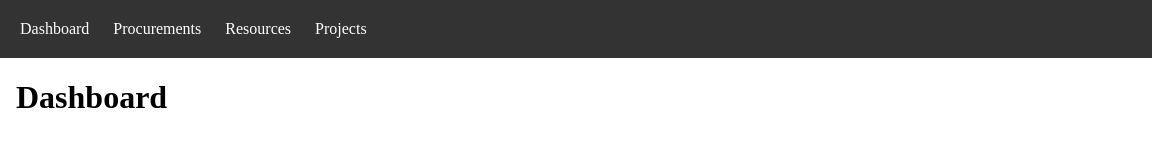
Test: User click on Procurements renders dashboard page
Click the link "Procurements".
click(157, 29)  # box [109,16,205,42]
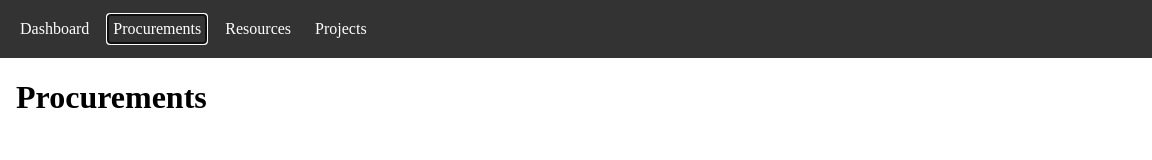
Expected: the heading reads "Procurements", [16,79,207,115]
